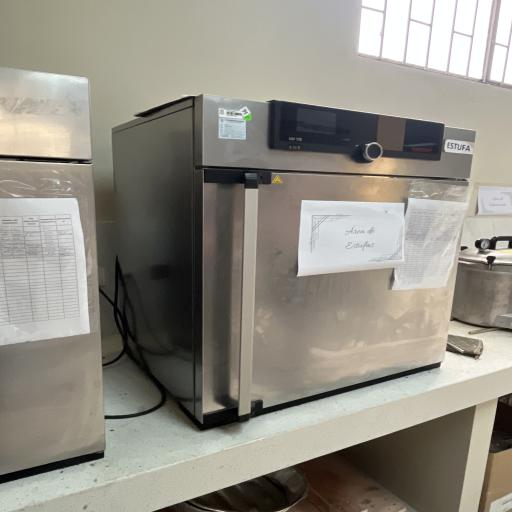Estufa_Memmert: (99, 83, 486, 434)
